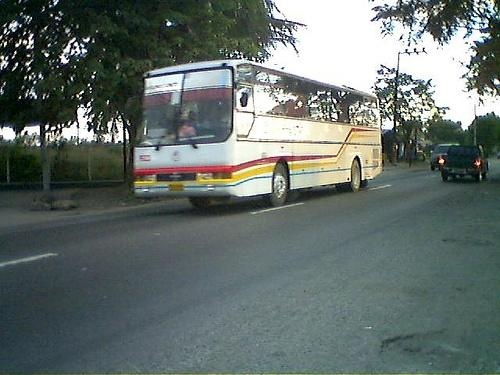bus: (134, 59, 383, 207)
car: (438, 145, 490, 183)
